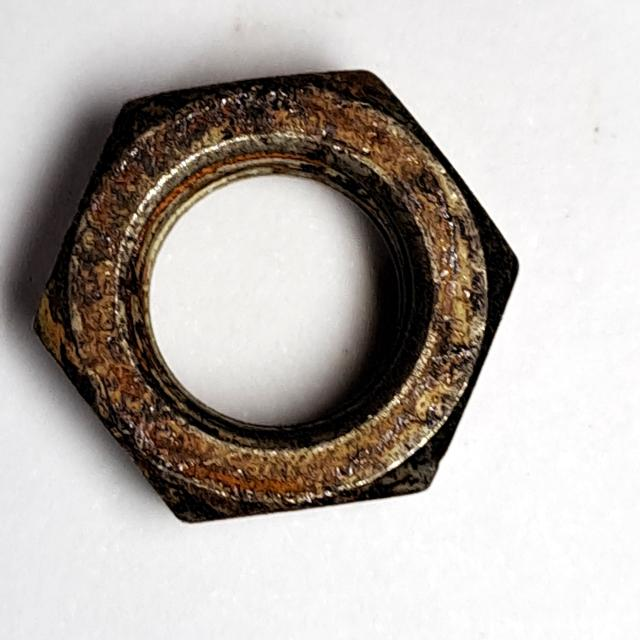Rust: (23, 55, 527, 540)
